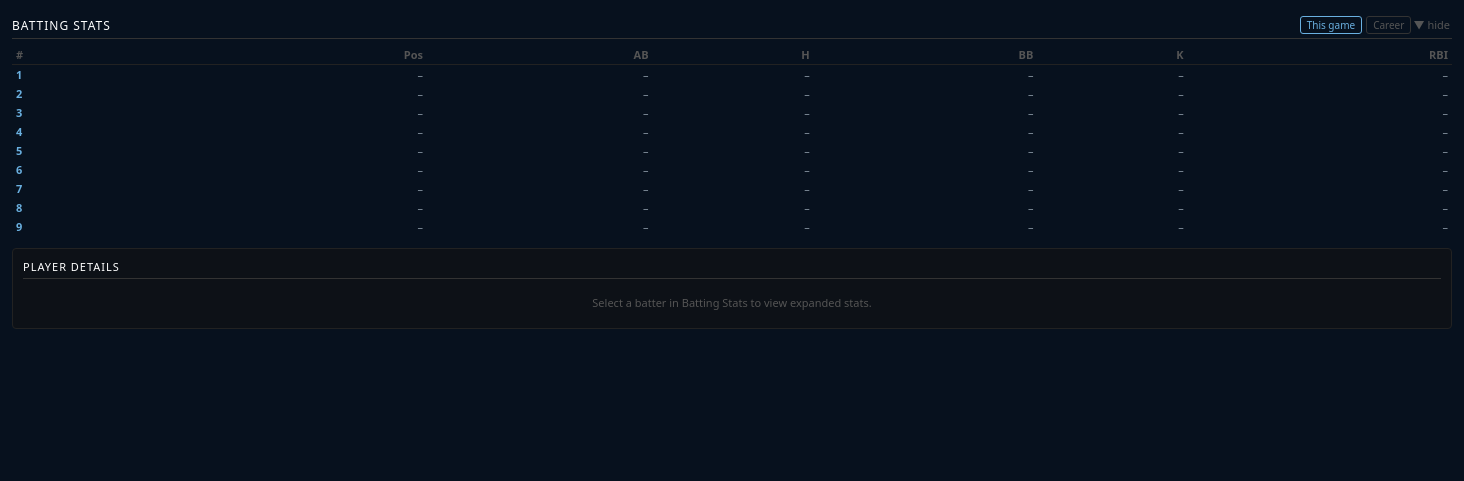
PlayerStatsPanel › shows AVG .000 when batter has no at-bats
What coordinates should you click on to do the following:
click the row with test id "batter-row-1"
I would click on:
 (19, 74)
Its box is [12,64,1452,84].
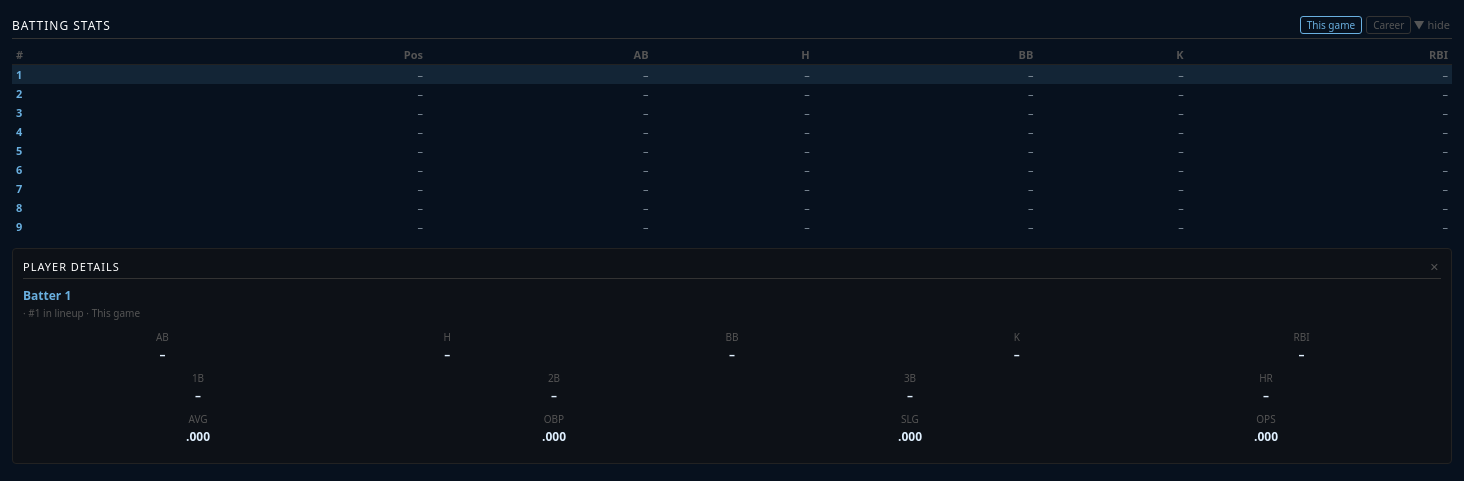
Now the text ".000" below "AVG" is shown, box [186,428,210,445]
